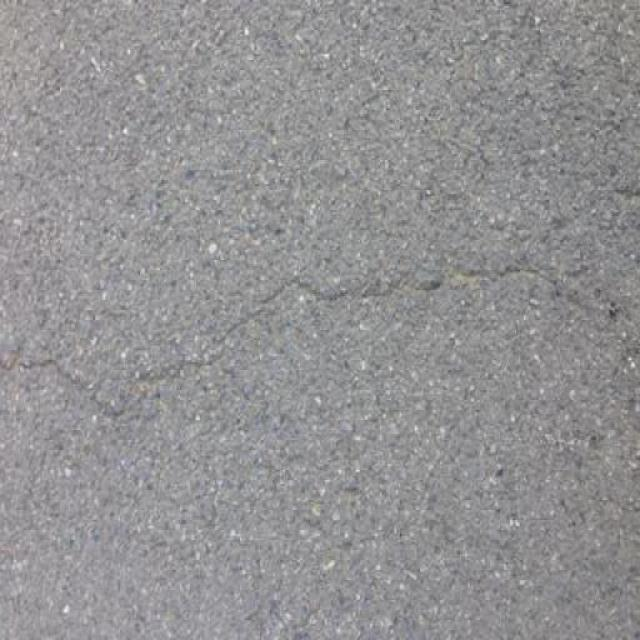Crack: (0, 242, 606, 426)
